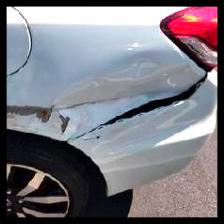bumper_dent: (36, 66, 195, 149)
